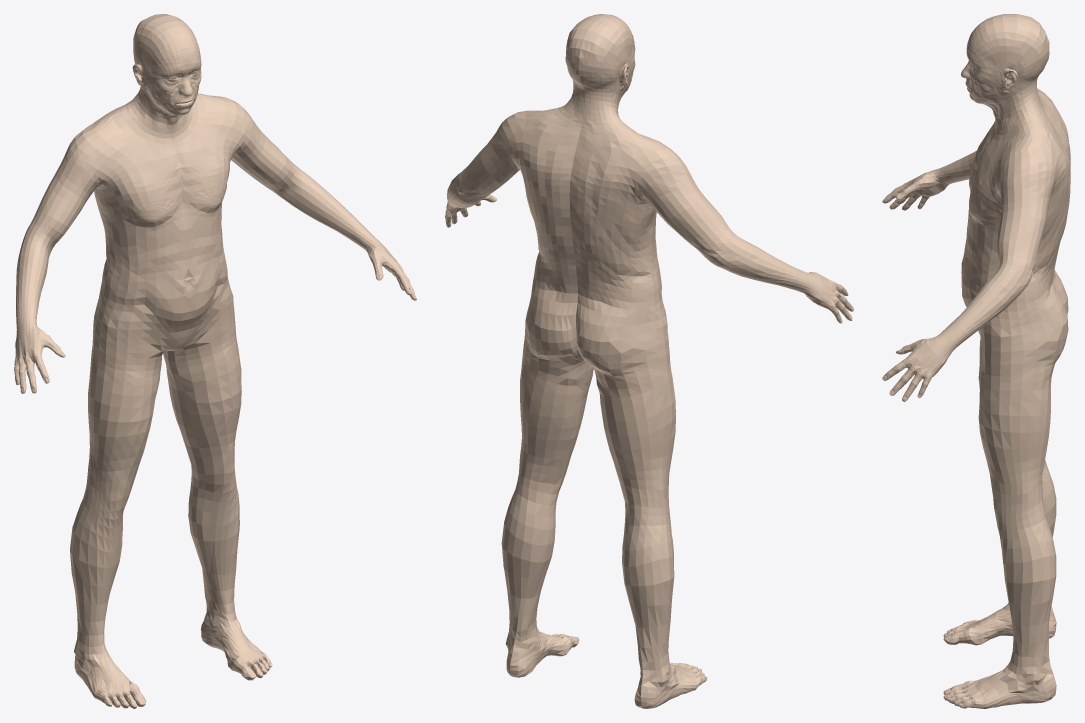
File: male-older-heavy-strong.glb
3 renders of one model, left to right at view 1: azimuth 30°, elevation 25°; view 2: azimuth 150°, elevation 25°; view 3: azimuth 270°, elevation 25°, orthographic.
Parts seen in each view (by area): view 1: world; view 2: world; view 3: world.
Part boxes in pixels (x1,y1,x2,y2): world: [14, 14, 416, 708]; world: [445, 14, 853, 708]; world: [882, 14, 1070, 708].
Size of the model in its own units: 1.23 by 1.95 by 0.5103.
